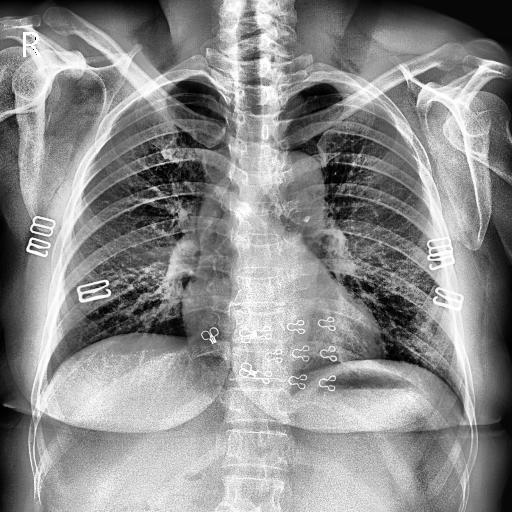0- Aortic enlargement: (246, 152, 324, 242), (252, 150, 326, 224), (262, 152, 326, 232)
